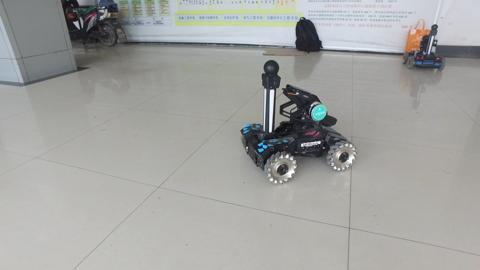bag: (292, 15, 325, 54), (405, 16, 432, 54)
chariot: (239, 58, 357, 185), (401, 22, 447, 72)
